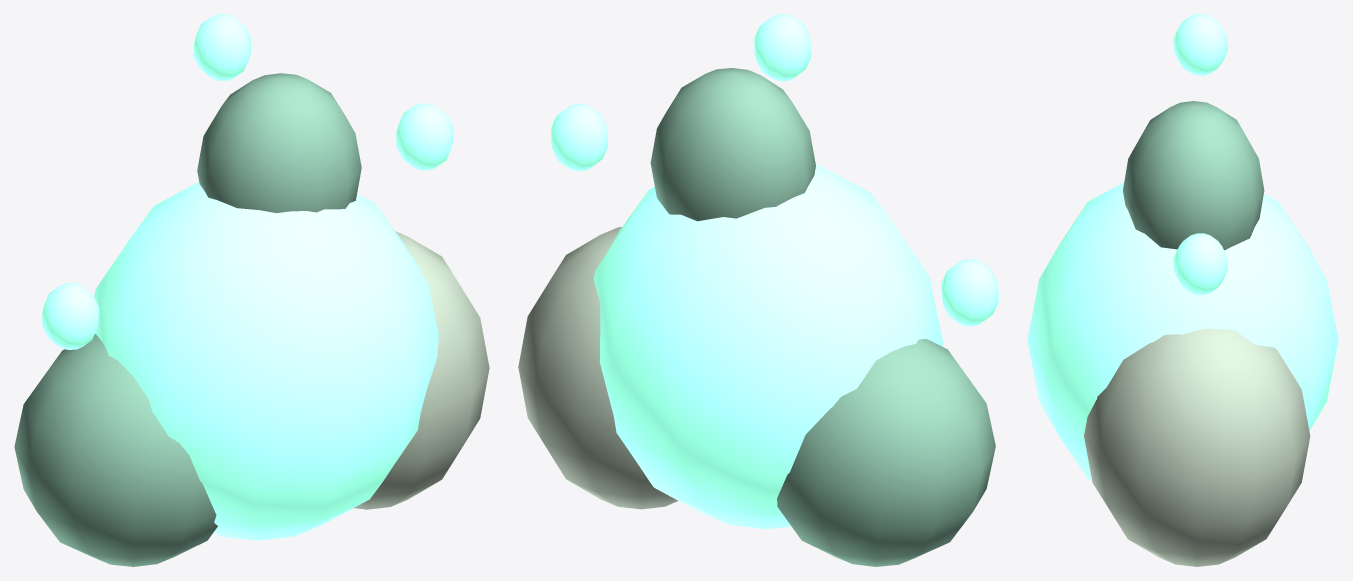
The model's file is soul-puff.glb.
3 views of the same model, side by side, from view 1: azimuth 30°, elevation 25°; view 2: azimuth 150°, elevation 25°; view 3: azimuth 270°, elevation 25° (orthographic). The views are drawn at different scales.
Parts seen in each view (by area): view 1: soul-puff; view 2: soul-puff; view 3: soul-puff.
Part boxes in pixels (x1,y1,x2,y2): soul-puff: (14, 14, 489, 566); soul-puff: (518, 14, 998, 566); soul-puff: (1027, 14, 1338, 566).
Bounding box in the file's own units: 0.67 × 0.745 × 0.44.
